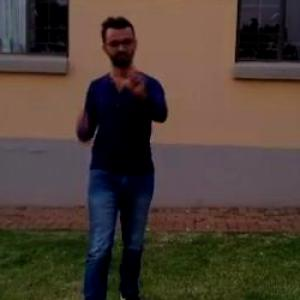land_hand: (116, 54, 150, 100)
